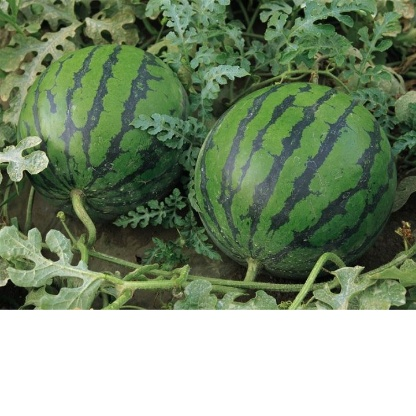duahau: (192, 48, 397, 272), (21, 26, 189, 211)
